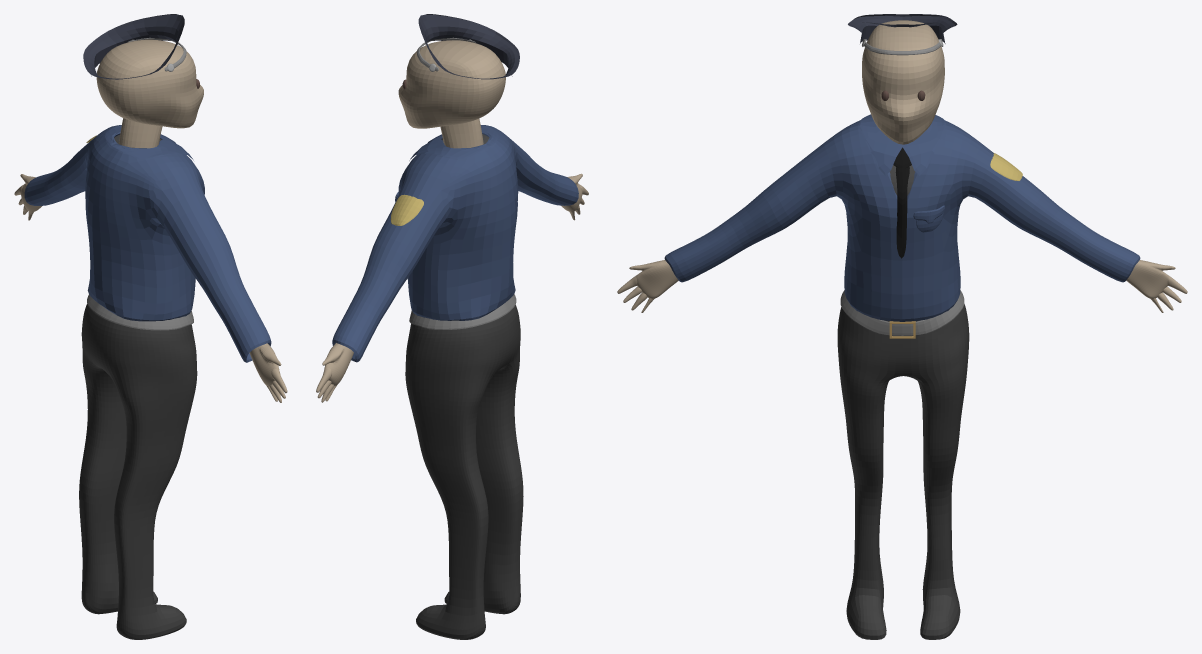
File: PoliceBodyInProgress.fbx
3 renders of one model, left to right at view 1: azimuth 30°, elevation 25°; view 2: azimuth 150°, elevation 25°; view 3: azimuth 270°, elevation 25°, orthographic. The views are drawn at different scales.
Visible parts, largest first — view 1: pants, shirt, face, Circle.001, hands, belt, neck, colar; view 2: pants, shirt, face, Circle.001, hands, belt, colar, neck, Plane.007; view 3: shirt, pants, face, hands, colar, belt, Circle.001, tie2.
Part boxes in pixels (left/top/right/bottom): pants: left=79, top=304, right=197, bottom=639; shirt: left=24, top=125, right=271, bottom=362; face: left=96, top=39, right=203, bottom=128; Circle.001: left=83, top=14, right=184, bottom=79; hands: left=14, top=174, right=287, bottom=402; belt: left=87, top=294, right=193, bottom=330; neck: left=119, top=118, right=162, bottom=148; colar: left=104, top=125, right=193, bottom=160; pants: left=405, top=305, right=523, bottom=639; shirt: left=332, top=125, right=578, bottom=362; face: left=398, top=40, right=505, bottom=128; Circle.001: left=418, top=14, right=519, bottom=79; hands: left=316, top=173, right=588, bottom=402; belt: left=409, top=294, right=516, bottom=329; colar: left=409, top=125, right=498, bottom=160; neck: left=440, top=119, right=483, bottom=148; Plane.007: left=390, top=194, right=423, bottom=225; shirt: left=664, top=120, right=1140, bottom=321; pants: left=837, top=304, right=969, bottom=639; face: left=862, top=20, right=944, bottom=144; hands: left=617, top=260, right=1187, bottom=312; colar: left=859, top=114, right=945, bottom=175; belt: left=840, top=290, right=964, bottom=336; Circle.001: left=848, top=14, right=957, bottom=43; tie2: left=895, top=167, right=909, bottom=258.
Size of the model in its own units: 42.23 by 207 by 171.
